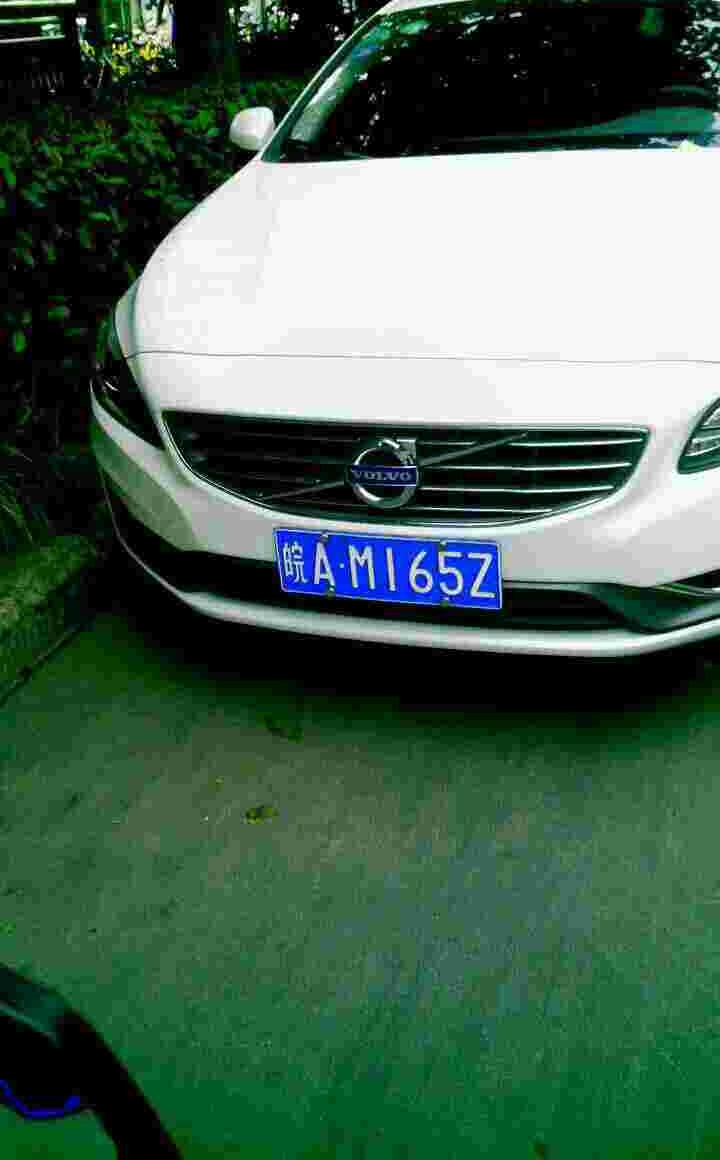plate: (272, 524, 508, 613)
